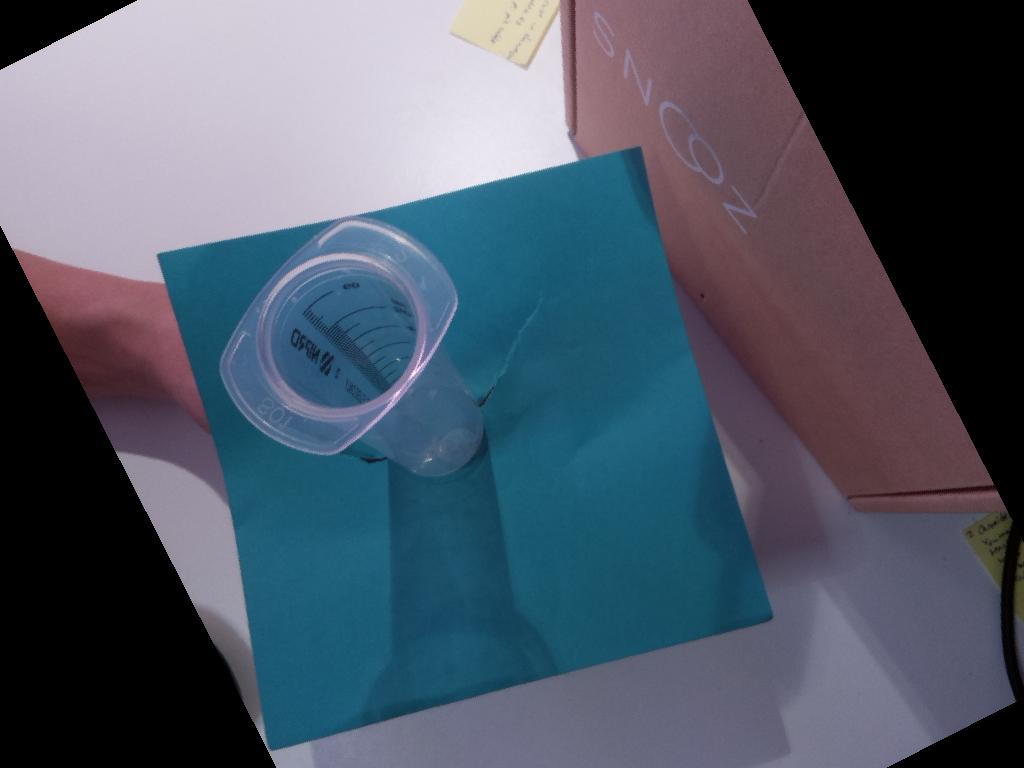clean: (216, 216, 459, 456)
